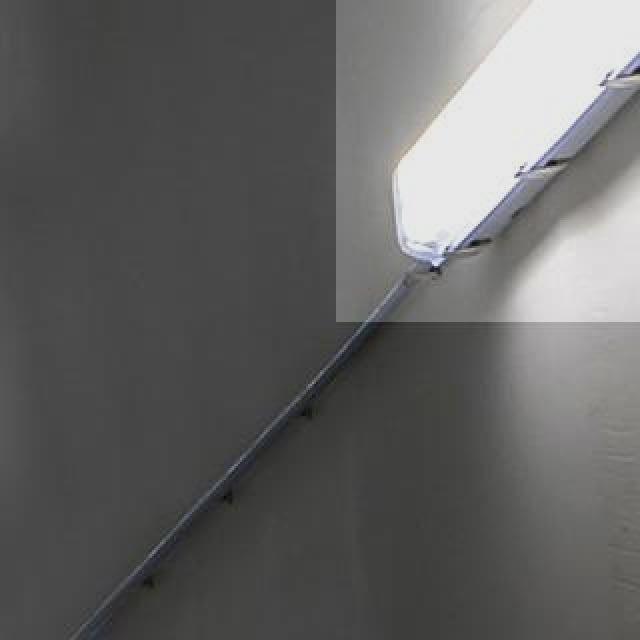fluorescent tube: (358, 0, 640, 300)
